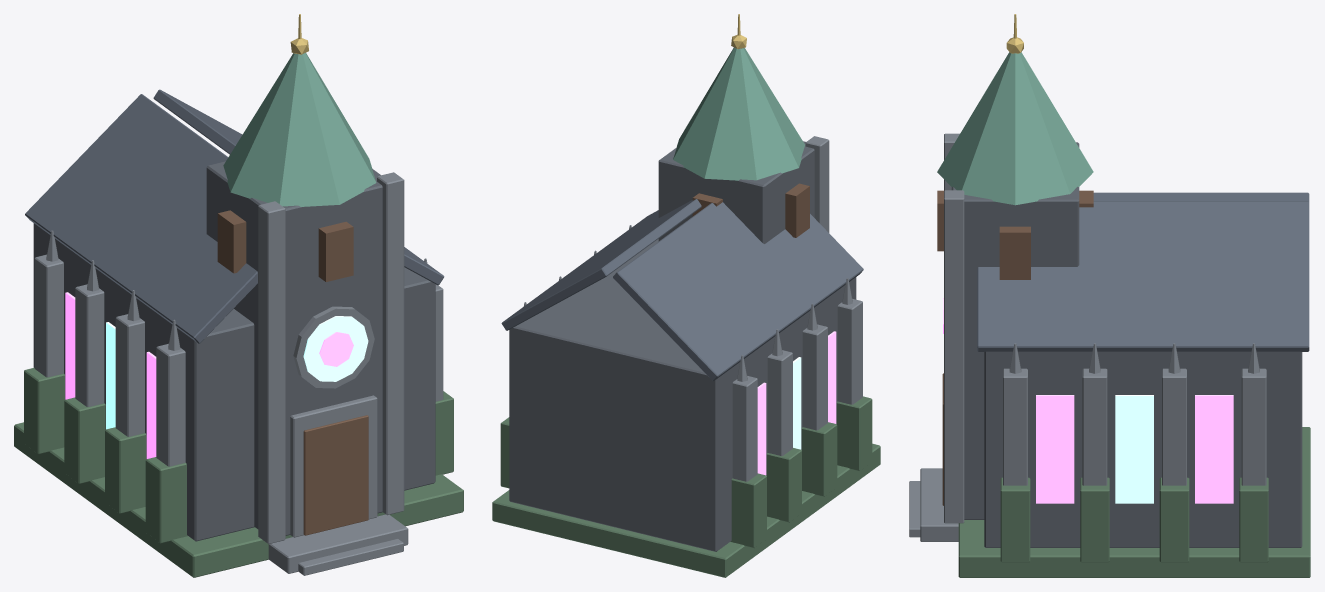
File: outdoor_church.glb
The picture shows the model from 3 angles, left to right: view 1: azimuth 30°, elevation 25°; view 2: azimuth 150°, elevation 25°; view 3: azimuth 270°, elevation 25°; orthographic projection. The views are drawn at different scales.
Visible parts, largest first — view 1: Outdoor_Church; view 2: Outdoor_Church; view 3: Outdoor_Church.
Part boxes in pixels (left/top/right/bottom): Outdoor_Church: left=14, top=14, right=463, bottom=577; Outdoor_Church: left=492, top=14, right=880, bottom=577; Outdoor_Church: left=909, top=14, right=1310, bottom=577.
Bounding box in the file's own units: 10.55 × 17.46 × 12.73.
